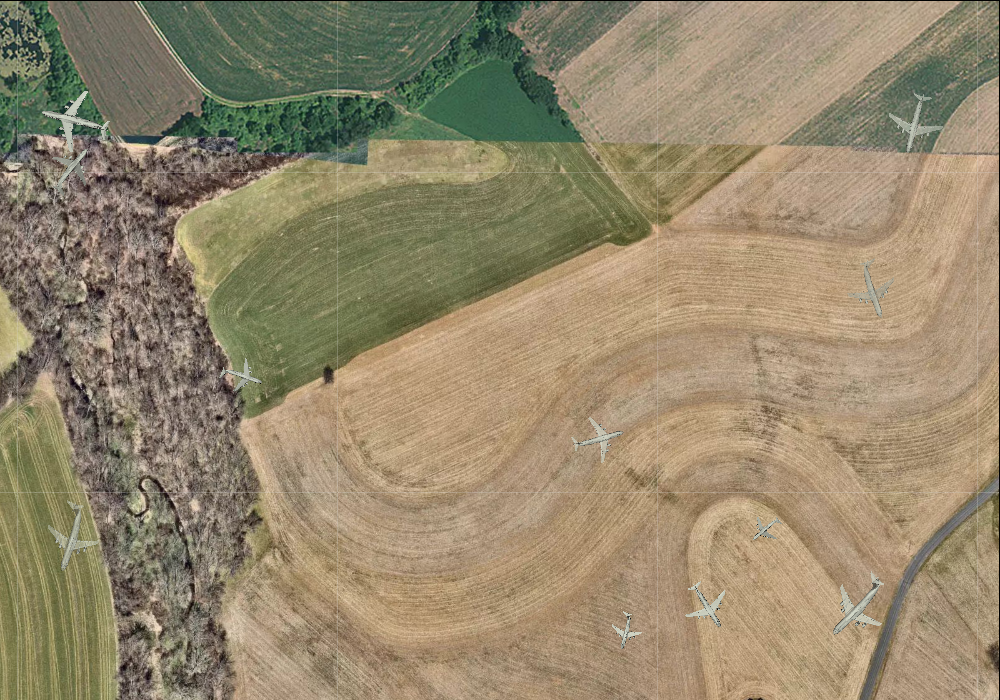plane: (807, 556, 906, 655), (28, 493, 110, 580), (33, 80, 116, 161), (837, 251, 910, 326), (880, 86, 951, 160), (35, 134, 107, 206), (673, 571, 740, 639), (565, 407, 630, 470), (213, 350, 268, 403), (743, 506, 789, 553), (603, 608, 647, 653)
